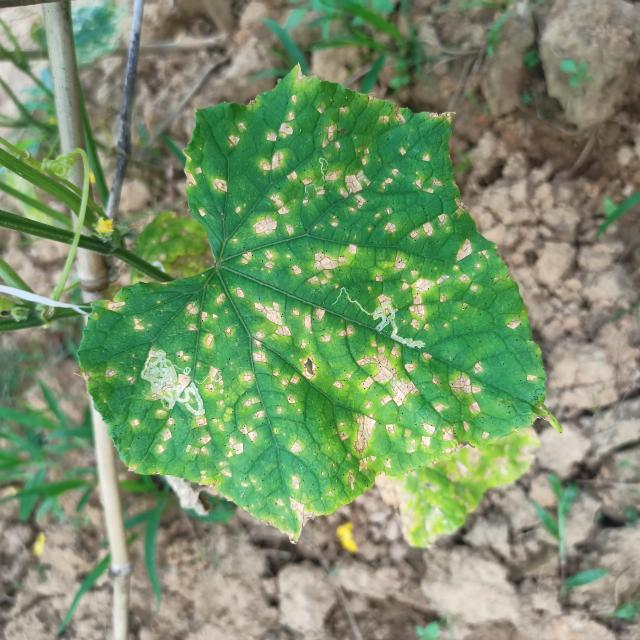disease_cucumber: (99, 92, 501, 508)
